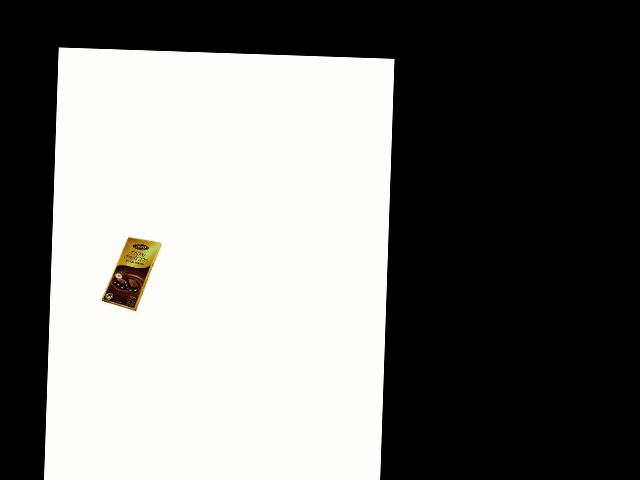chocolate: (101, 236, 163, 318)
